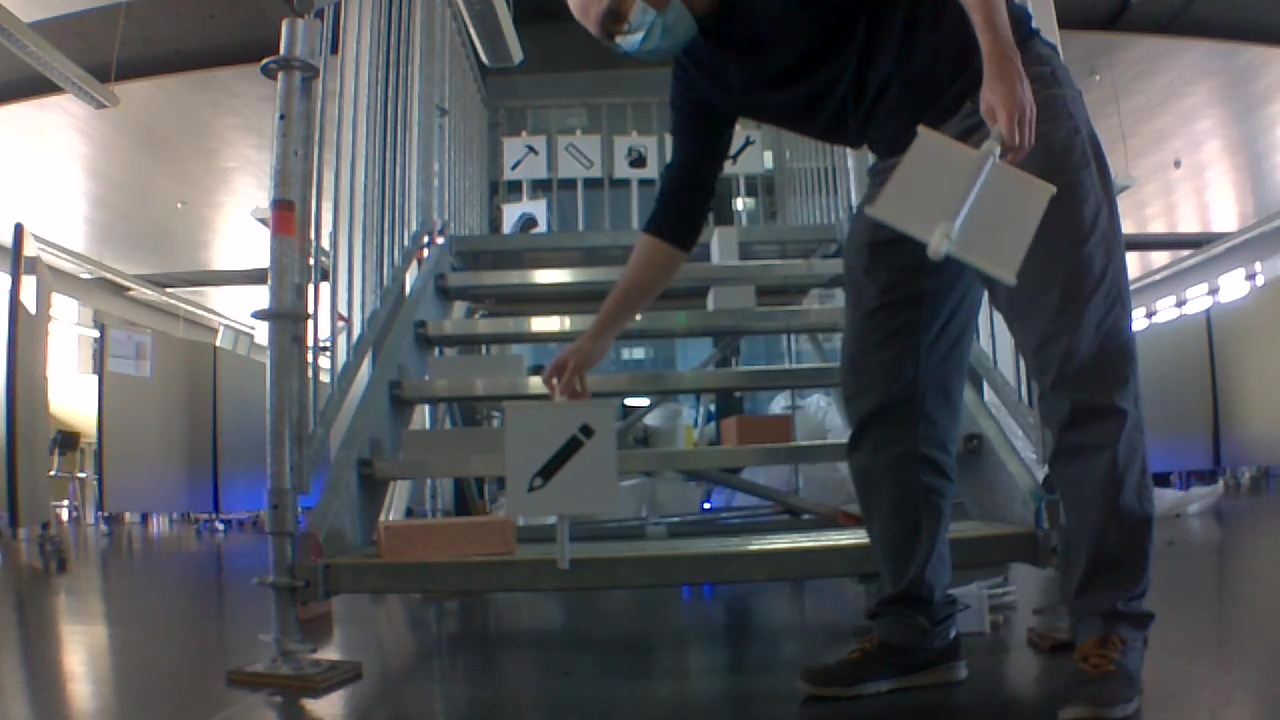brick: (376, 515, 519, 563), (400, 430, 508, 454), (721, 414, 792, 445), (431, 355, 526, 377), (709, 283, 759, 308), (711, 223, 739, 266)
bucket: (621, 143, 650, 174)
edge: (324, 538, 868, 599)
hammer: (506, 144, 538, 172)
pencil: (527, 422, 596, 492)
ruler: (563, 139, 595, 172)
taco: (510, 208, 540, 234)
wrench: (725, 133, 755, 168)
